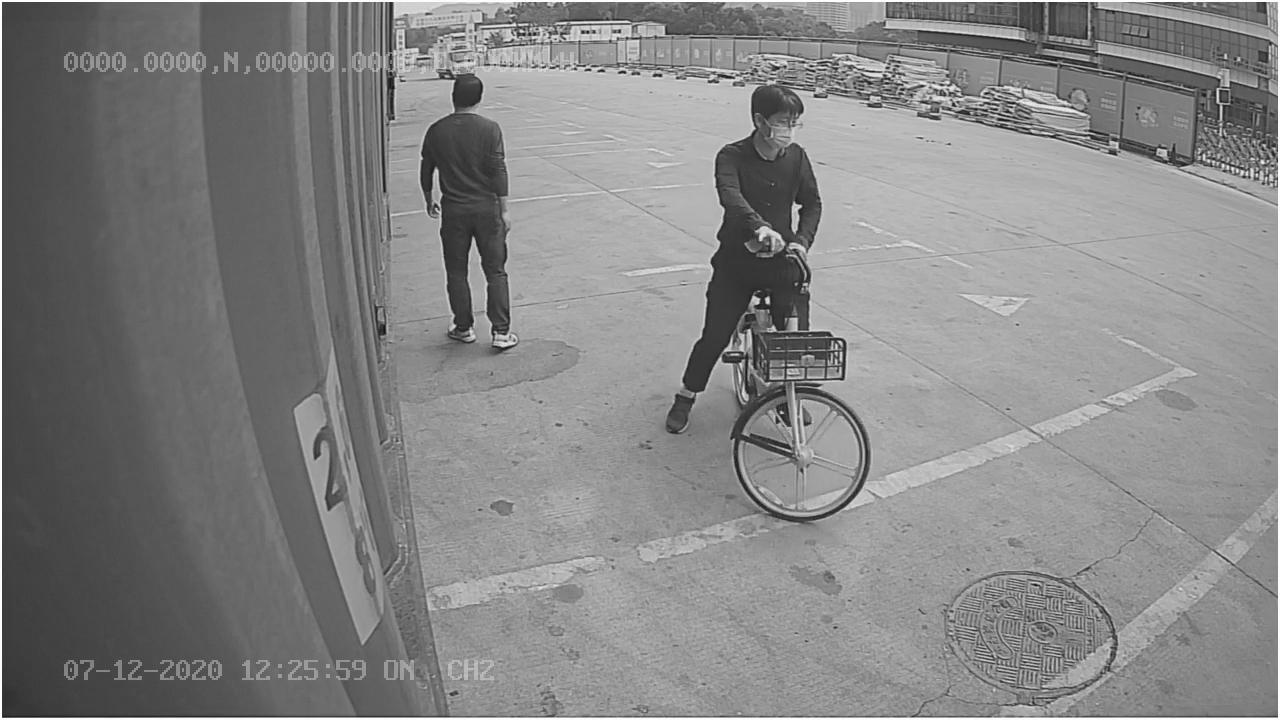person: (414, 69, 520, 356)
